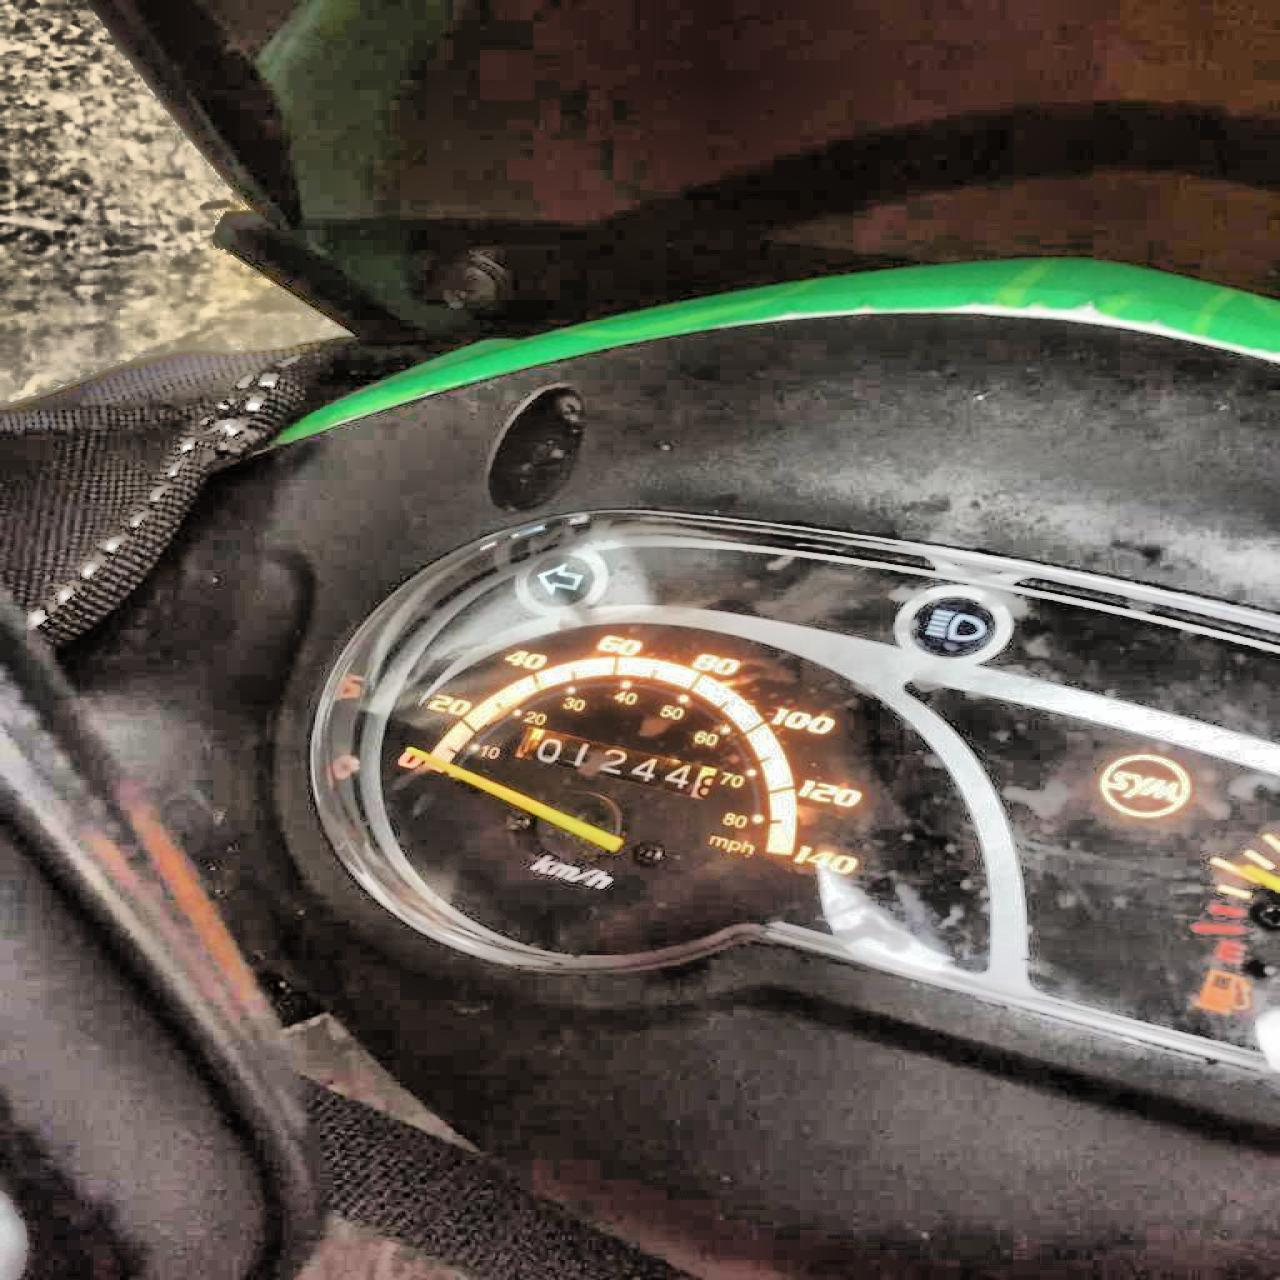0: (533, 734, 564, 764), (706, 731, 716, 748)
1: (570, 737, 590, 770)
2: (597, 742, 626, 776)
4: (629, 754, 659, 783), (661, 761, 692, 789)
6: (692, 729, 706, 743)
8: (696, 765, 716, 799)
odometer: (516, 722, 722, 803)
